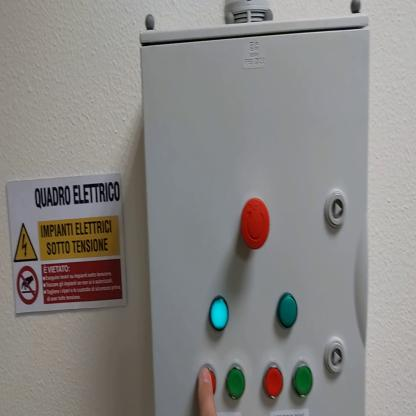hand: (196, 362, 216, 412)
left green button: (228, 366, 247, 400)
left red button: (199, 367, 215, 393)
right green button: (294, 364, 313, 398)
right red button: (265, 367, 285, 399)
